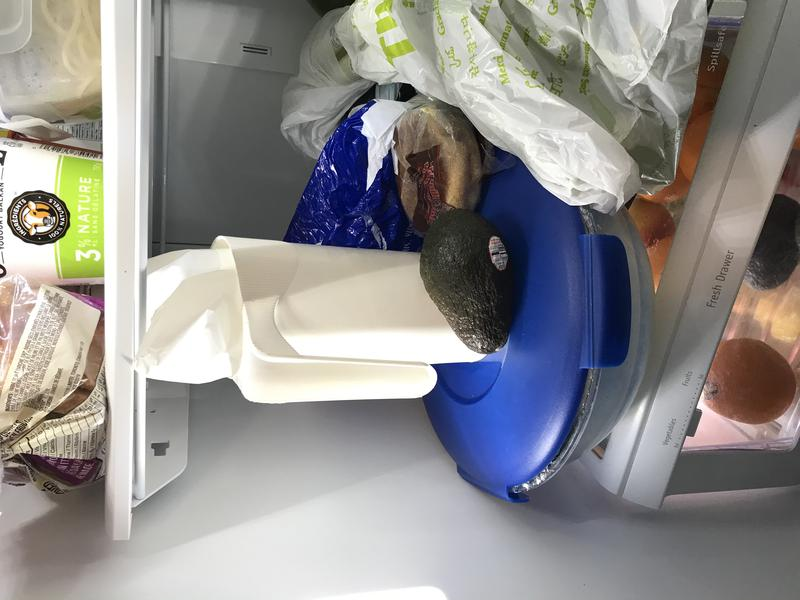avocado: (412, 202, 525, 359)
